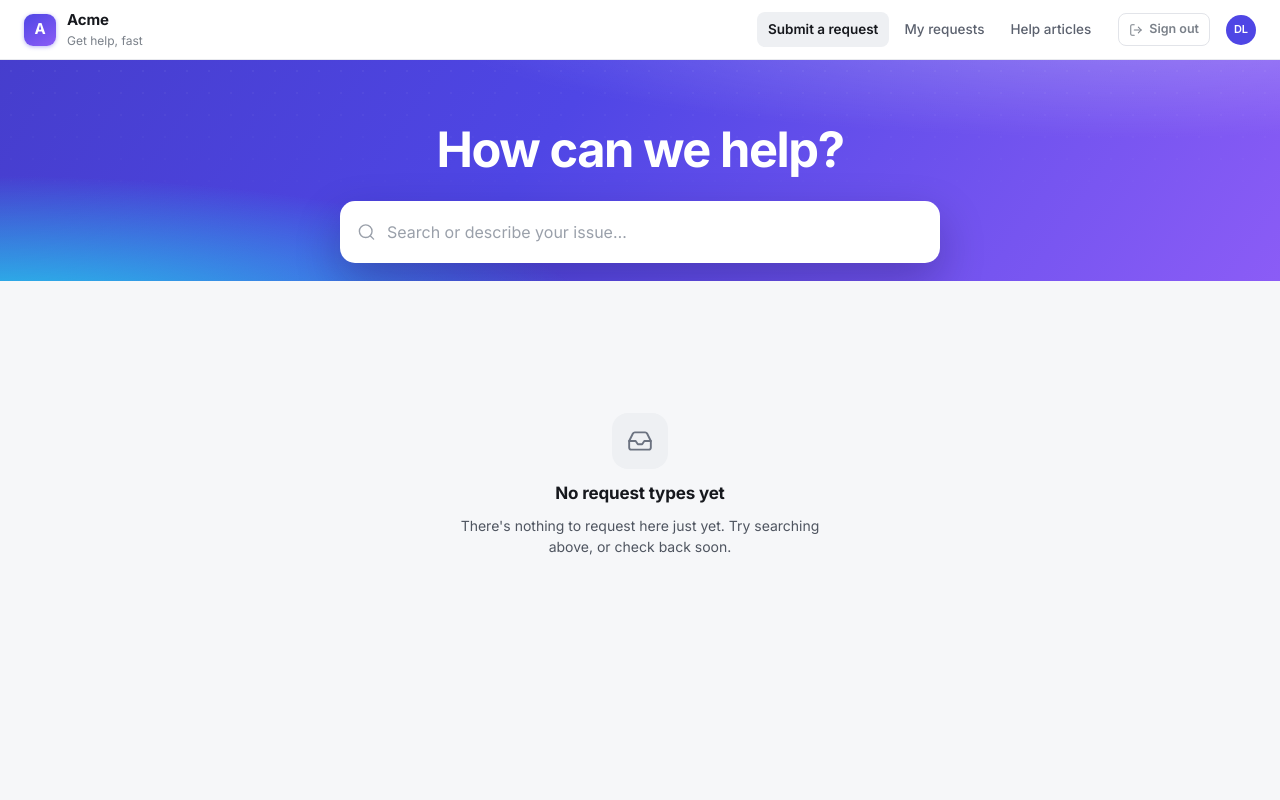
Test: RequesterPortal › shows the thanks state instead of the prompt once rated
This screenshot has width=1280, height=800.
Click the button "My requests" at [944, 30], box x1=893 y1=12 x2=996 y2=47
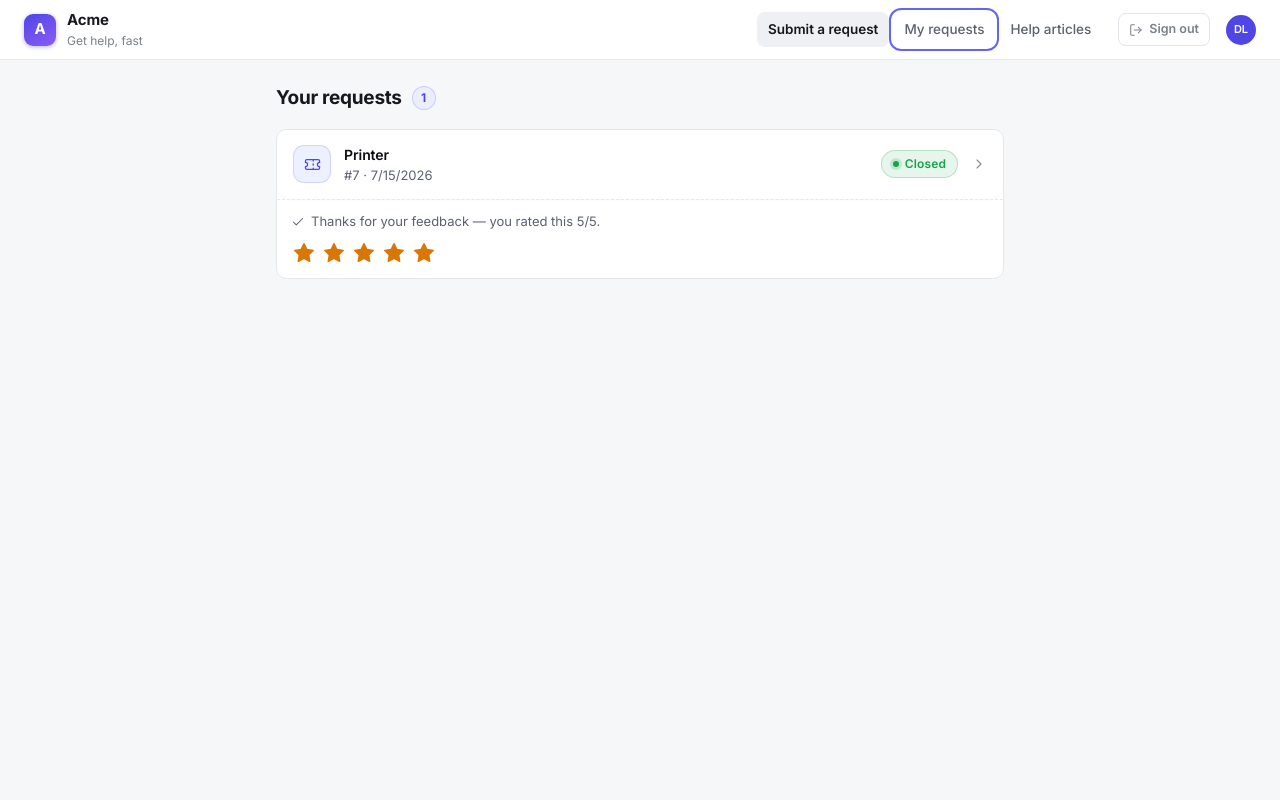
Now the text "Thanks for your feedback — you rated this 5/5." is shown, box x1=291 y1=213 x2=600 y2=229
